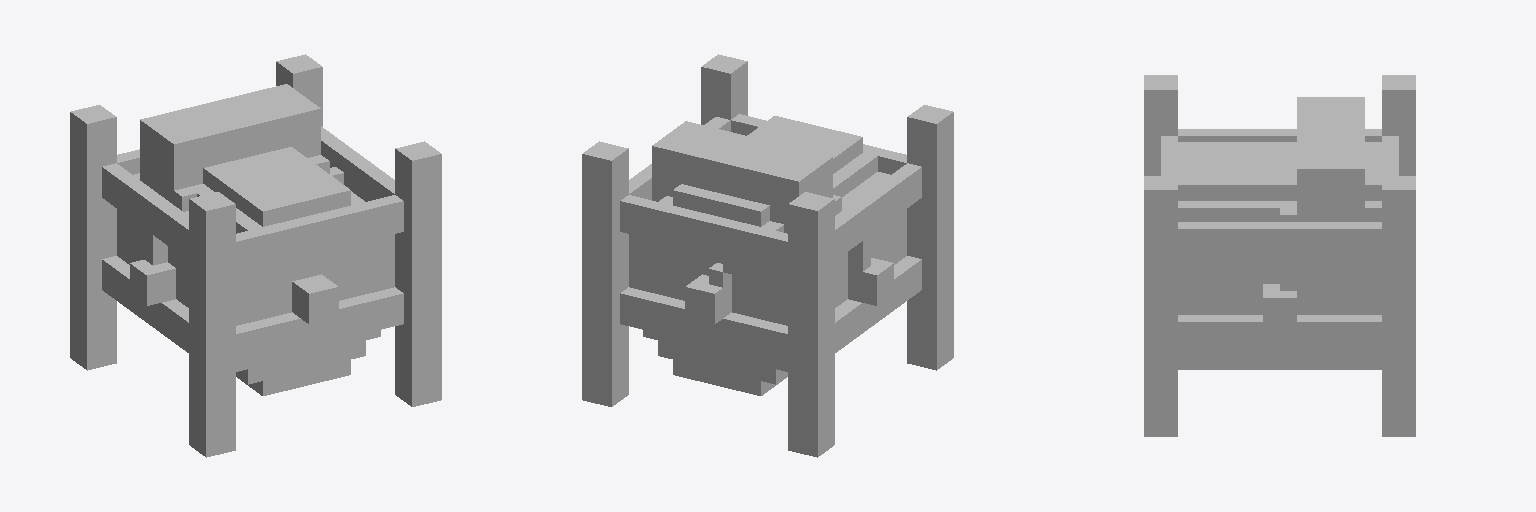
Rendered from power_generators_alternator.obj.
The picture shows the model from 3 angles: view 1: azimuth 30°, elevation 25°; view 2: azimuth 150°, elevation 25°; view 3: azimuth 270°, elevation 25°; orthographic projection.
Visible parts, largest first — view 1: node_0_0_0.001; view 2: node_0_0_0.001; view 3: node_0_0_0.001.
Boxes of the visible parts, x1,y1,x2,y2 form: node_0_0_0.001: [70, 54, 441, 457]; node_0_0_0.001: [582, 54, 953, 457]; node_0_0_0.001: [1144, 75, 1415, 436].
Size of the model in its own units: 1 by 1 by 1.